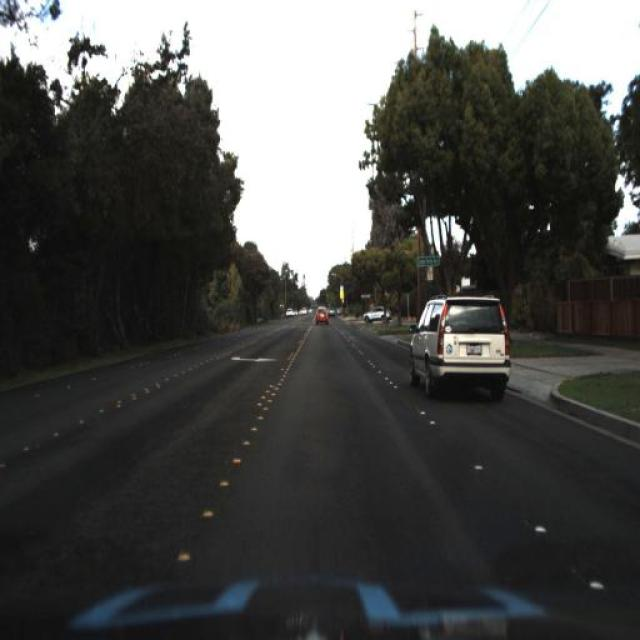car: (410, 282, 514, 408), (360, 300, 390, 326), (310, 296, 330, 325)
